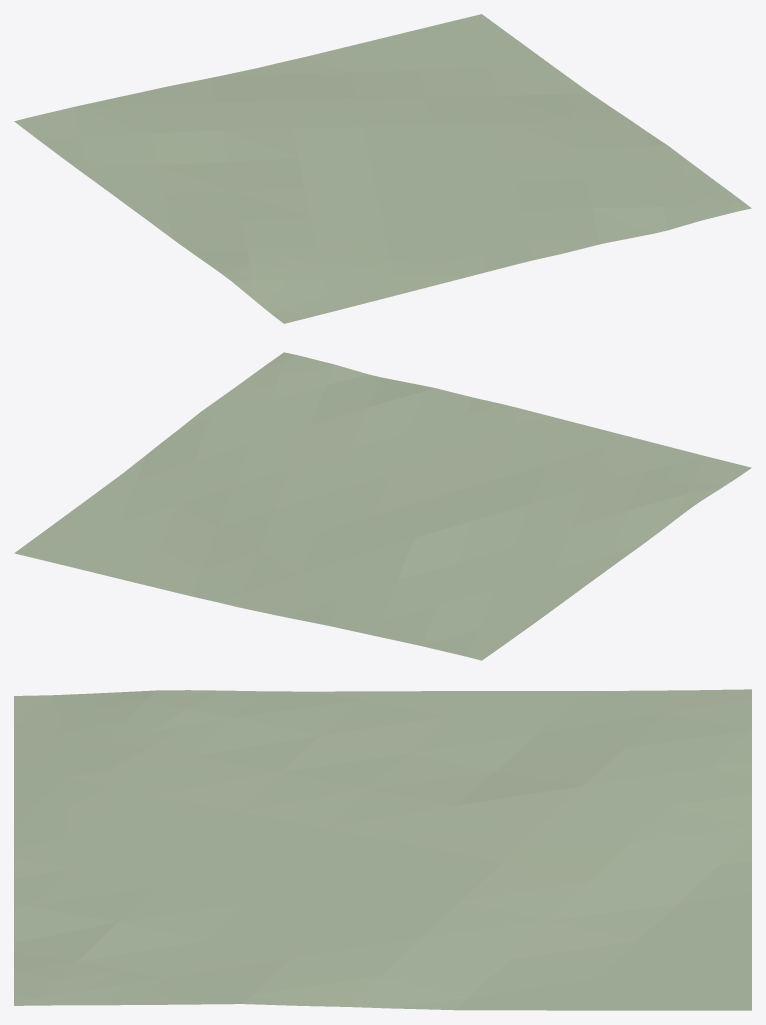
The model's file is SM_MPRR_Terrain_1_-4.fbx.
3 renders of one model, top to bottom at view 1: azimuth 30°, elevation 25°; view 2: azimuth 150°, elevation 25°; view 3: azimuth 270°, elevation 25°, orthographic. The views are drawn at different scales.
Parts seen in each view (by area): view 1: SM_MPRR_Terrain_1_-4; view 2: SM_MPRR_Terrain_1_-4; view 3: SM_MPRR_Terrain_1_-4.
Boxes of the visible parts, left/top/right/bottom form: SM_MPRR_Terrain_1_-4: left=14, top=14, right=751, bottom=323; SM_MPRR_Terrain_1_-4: left=14, top=352, right=751, bottom=660; SM_MPRR_Terrain_1_-4: left=14, top=689, right=751, bottom=1010.
Bounding box in the file's own units: 15000 × 15000 × 230.
